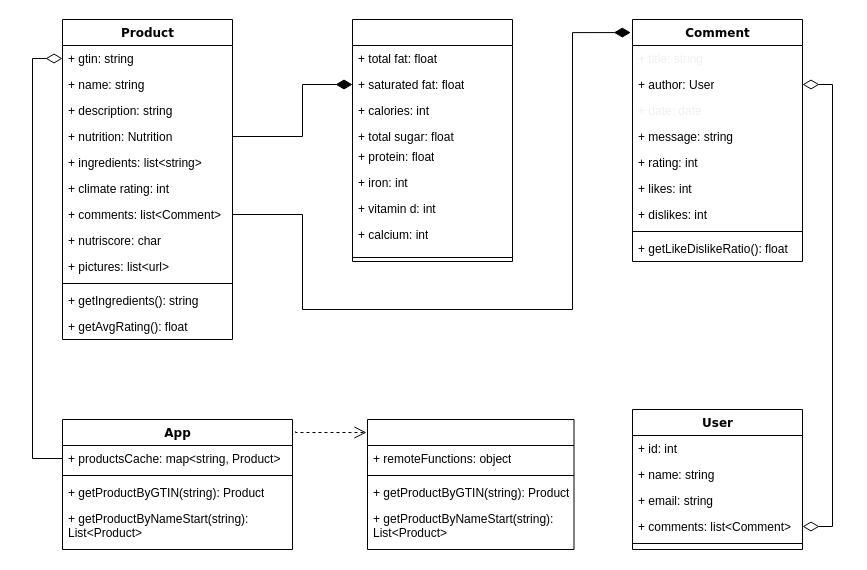
Some shapes in this 867 by 570 pixel diagram are drawn without their labels. The box of each missing label's shape, as (x1, y1, x2, y2) in pixels:
CloudFunctionsWrapper: (366, 418, 574, 550)
Nutrition: (352, 18, 512, 262)
